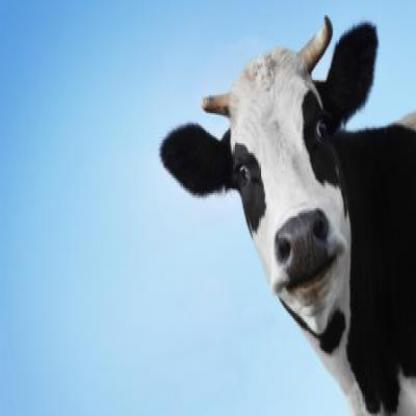lower: (308, 312, 319, 323)
mouth: (274, 214, 348, 331)
upper: (296, 235, 310, 260)
